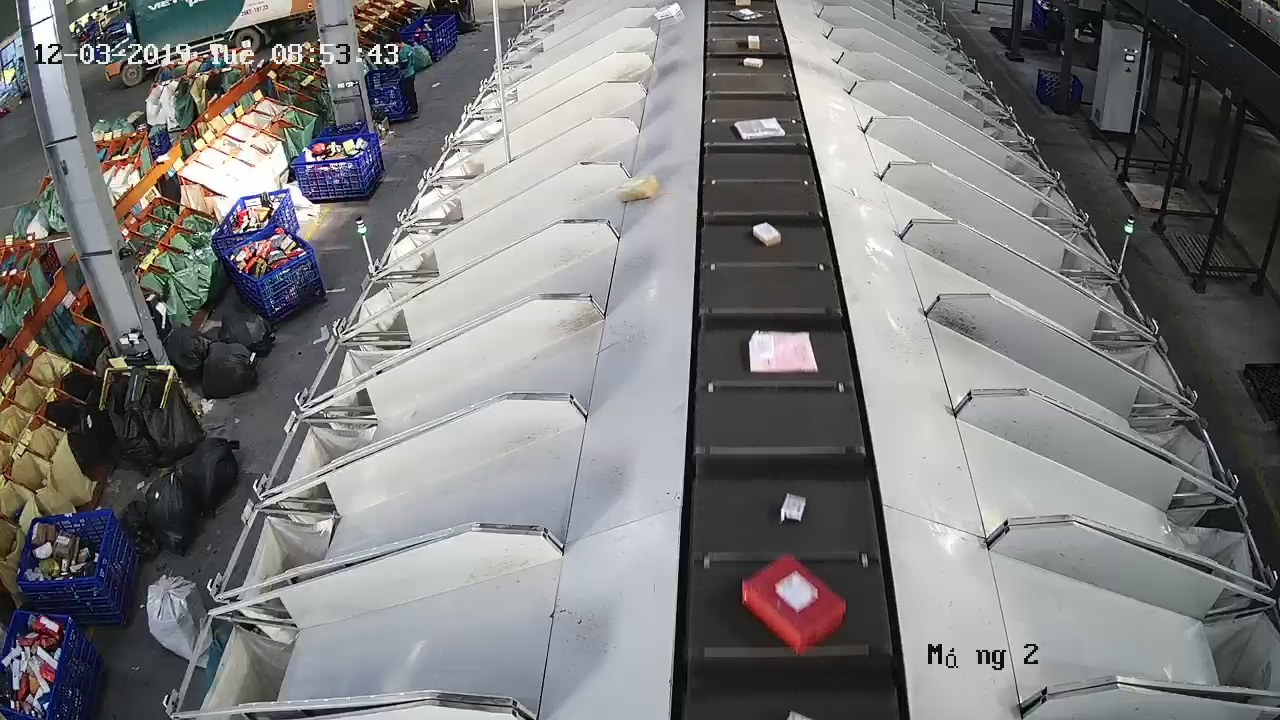parcel: (740, 552, 848, 657), (746, 328, 821, 376), (615, 171, 662, 205), (732, 116, 787, 143), (776, 491, 808, 527), (751, 220, 783, 249)
